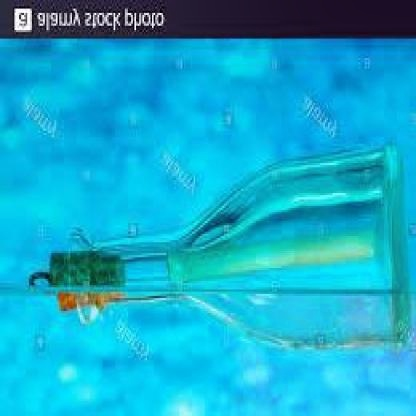gbottle: (43, 148, 411, 347)
